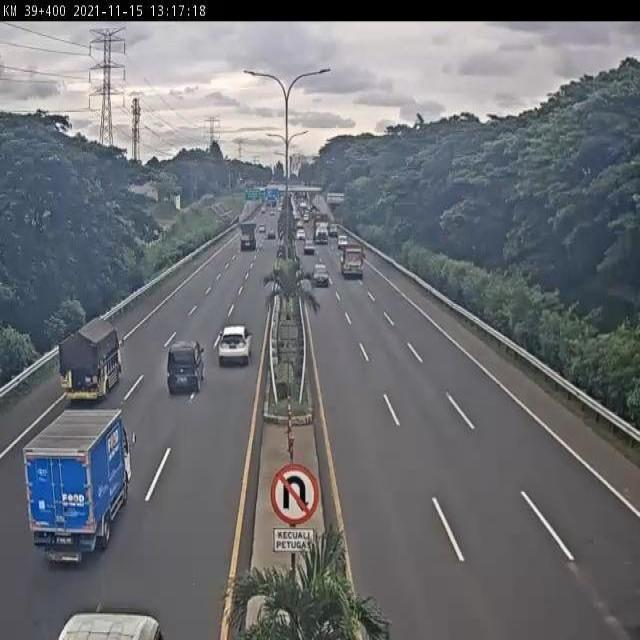Car: (215, 324, 253, 367), (311, 264, 330, 287), (302, 239, 316, 255), (259, 224, 266, 232)
Truck: (22, 407, 138, 570), (56, 315, 126, 404), (339, 243, 367, 279), (312, 211, 331, 246), (238, 220, 256, 250)
Van: (167, 337, 205, 395)
